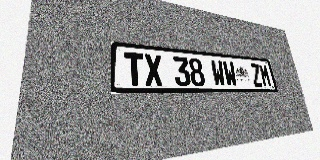3: (173, 56, 191, 86)
8: (188, 58, 205, 86)
M: (259, 64, 272, 87)
T: (124, 52, 145, 86)
W: (210, 60, 226, 86), (222, 61, 238, 87)
X: (144, 53, 163, 86)
Z: (249, 63, 264, 87)
